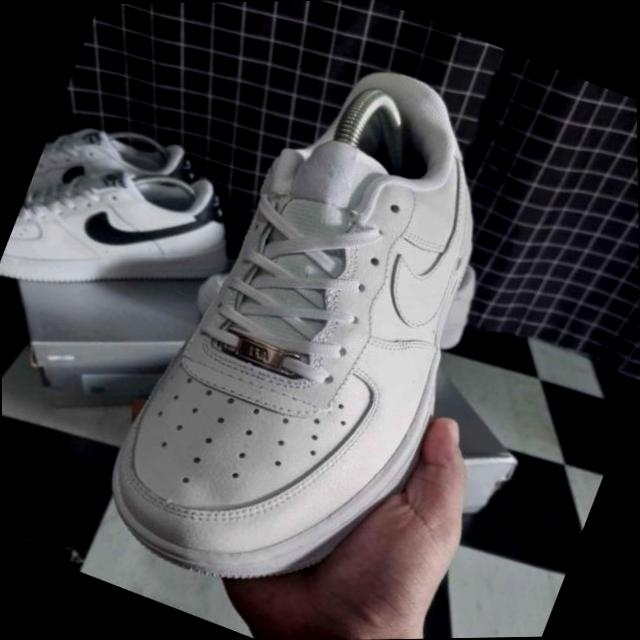nike_fake_airforce: (70, 34, 547, 640)
